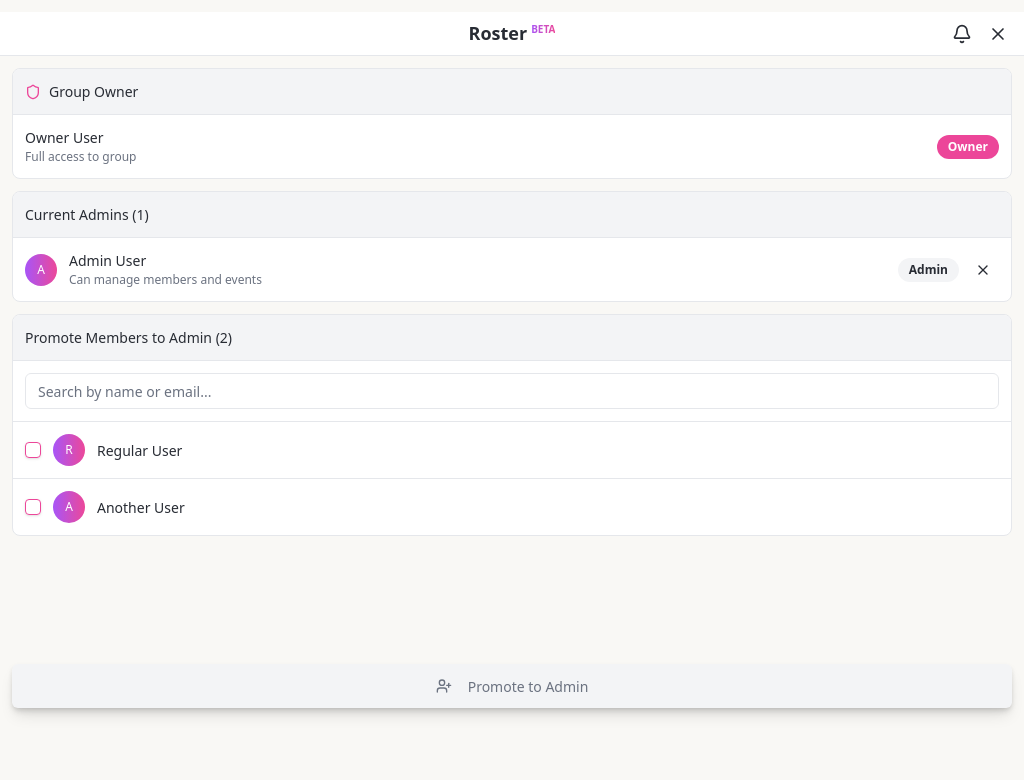
Scenario: ManageRolesPage › promoting members to admin › should enable promote button when members are selected
expect the text "Regular User" is shown: met, box [97,440,182,460]
Note: Find and click the checkbox for Regular User
Click the checkbox in the row of "Regular User" at {"x": 33, "y": 450}, box [25,442,41,458]
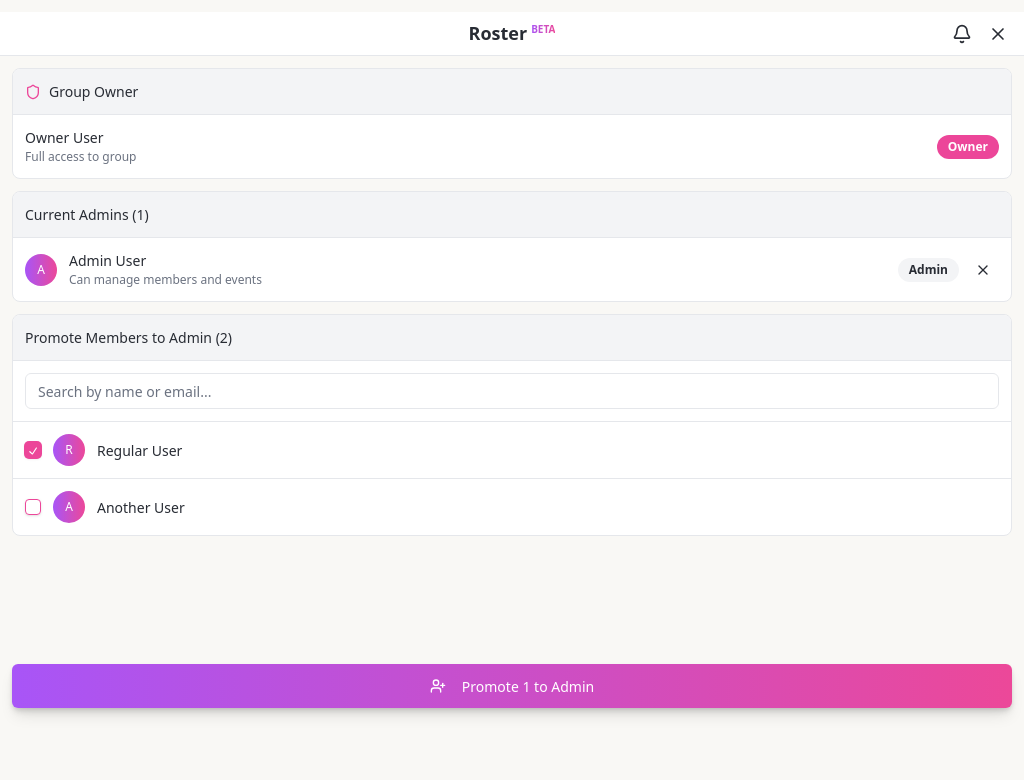
expect the button "Promote 1 to Admin" is enabled: met, box [12,664,1012,708]
